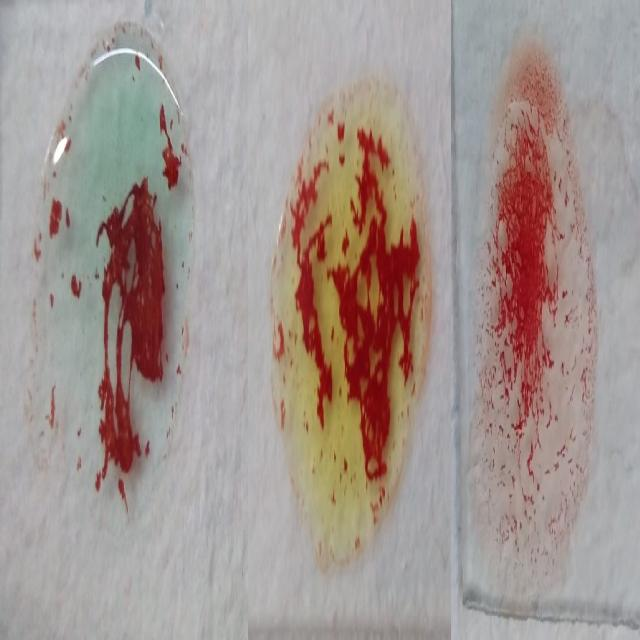A: (35, 19, 189, 542)
B: (270, 69, 429, 559)
D: (466, 57, 596, 580)
